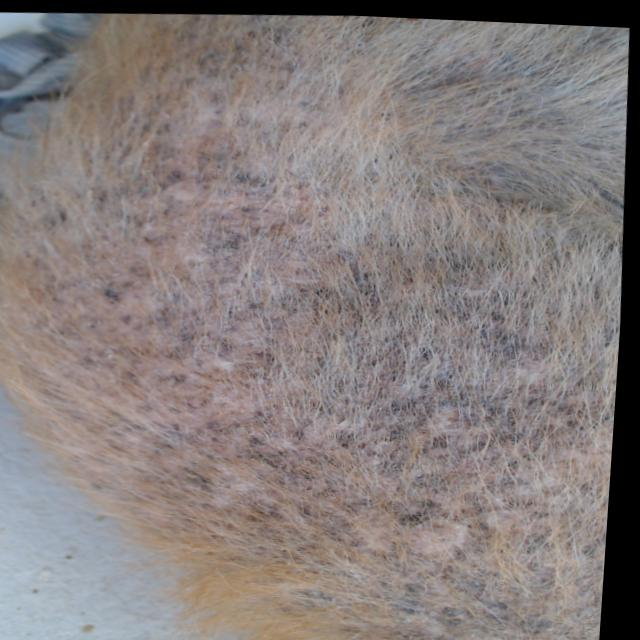demodicosis: (15, 110, 482, 493)
